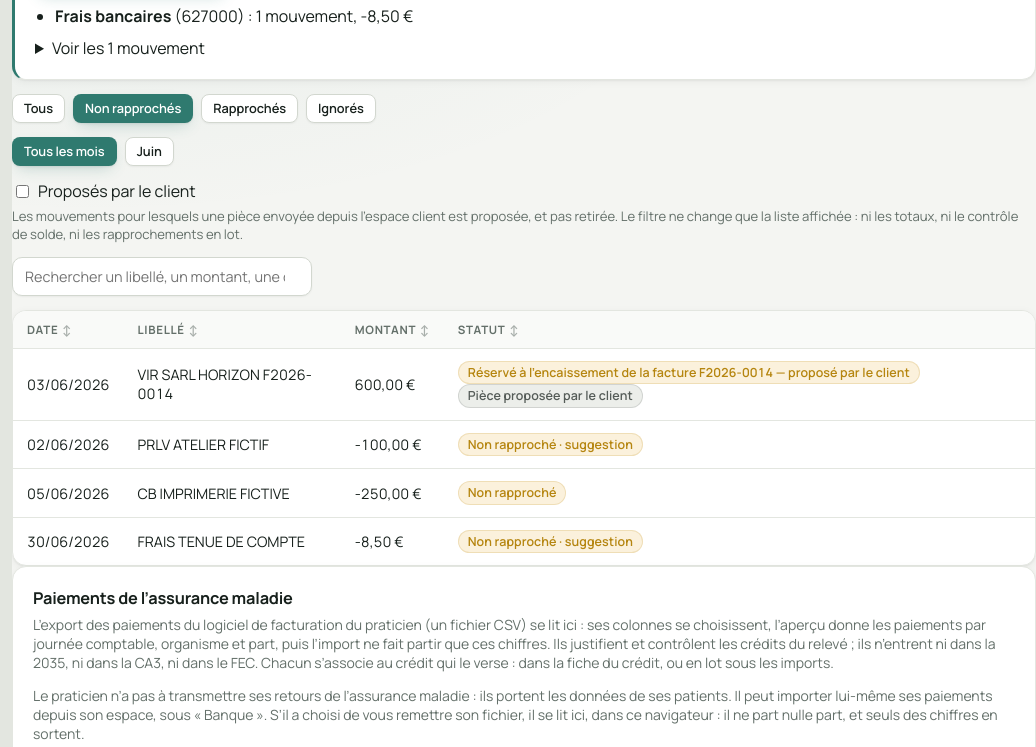
Test: un dossier basculé, ses ventes facturées lues en entier › la fiche d’un mouvement réservé : la carte, les mots de la garde, aucune section de classement d’hier — le seul geste, classer par ses encaissements (VF5c)
The width and height of the screenshot is (1036, 747).
(page scrolled)
What coordinates should you click on to do the following:
click the row that starts with "VIR SARL HORIZON F2026-0014"
I would click on:
 (524, 384)
Its box is 13,348 -> 1035,420.
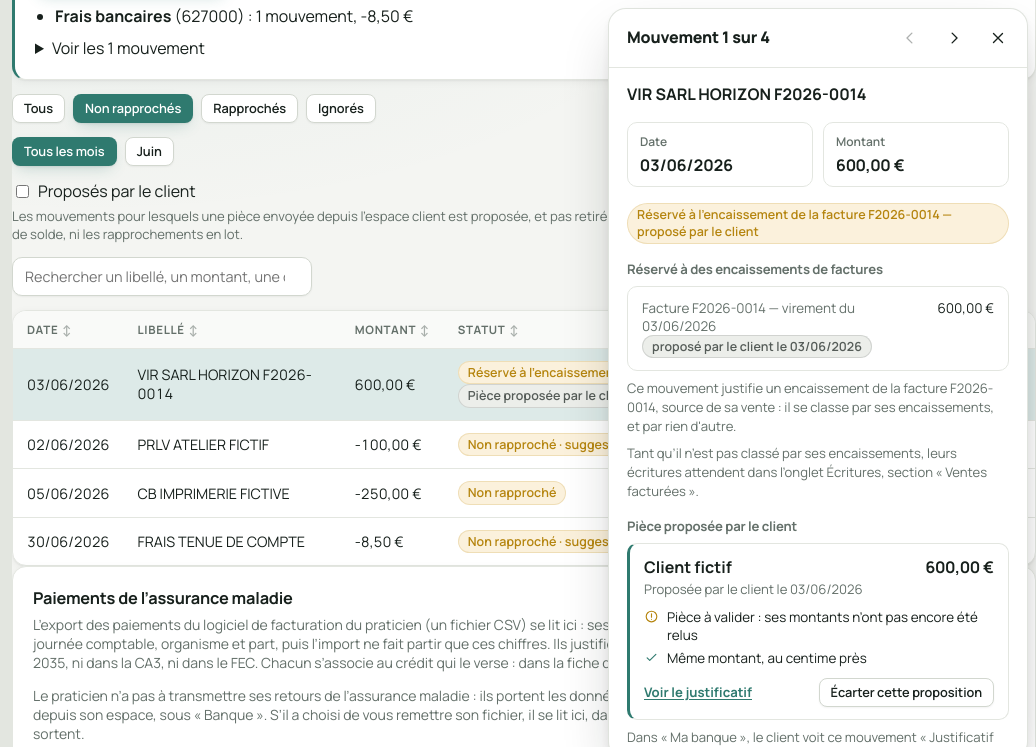
Expected: the heading "Pièce proposée par le client" is shown, 627,517 -> 797,535
